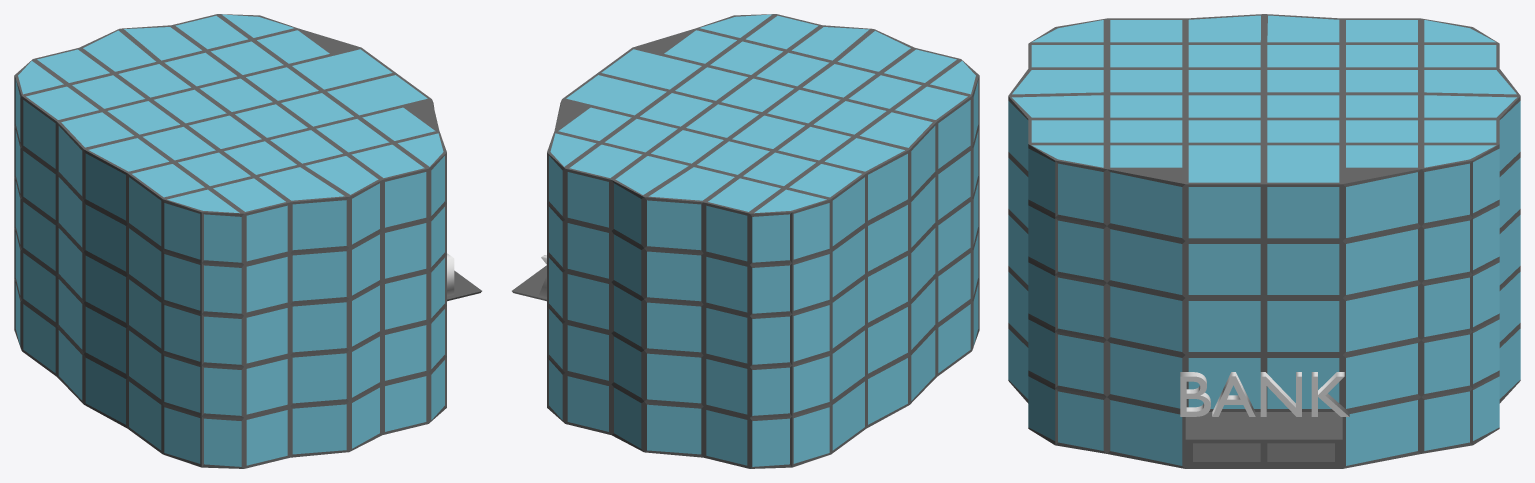
Rendered from bank.fbx.
3 views of the same model, side by side, from view 1: azimuth 30°, elevation 25°; view 2: azimuth 150°, elevation 25°; view 3: azimuth 270°, elevation 25° (orthographic). The views are drawn at different scales.
Visible parts, largest first — view 1: Cube; view 2: Cube; view 3: Cube, Text.
Part boxes in pixels (x1,y1,x2,y2): Cube: (14,14,481,468); Cube: (512,14,979,468); Cube: (1008,14,1520,468); Text: (1180,372,1349,416).
Size of the model in its own units: 716 by 481 by 785.
